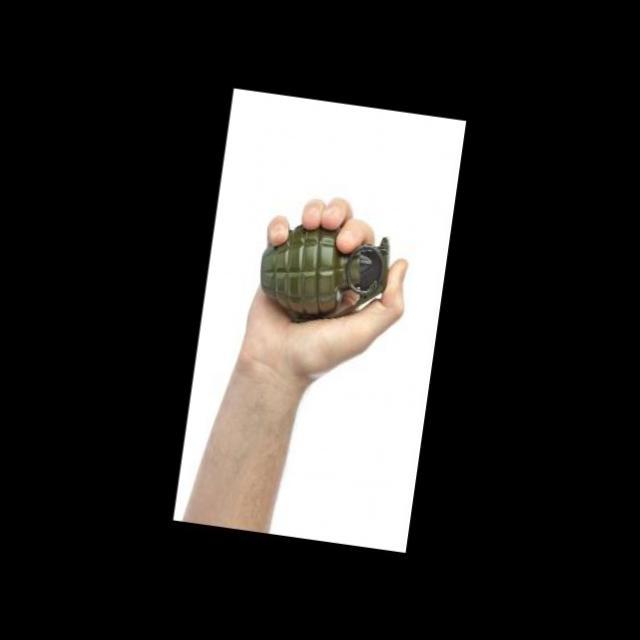grenade: (248, 211, 396, 333)
